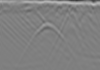hyperbola: (17, 21, 81, 61)
